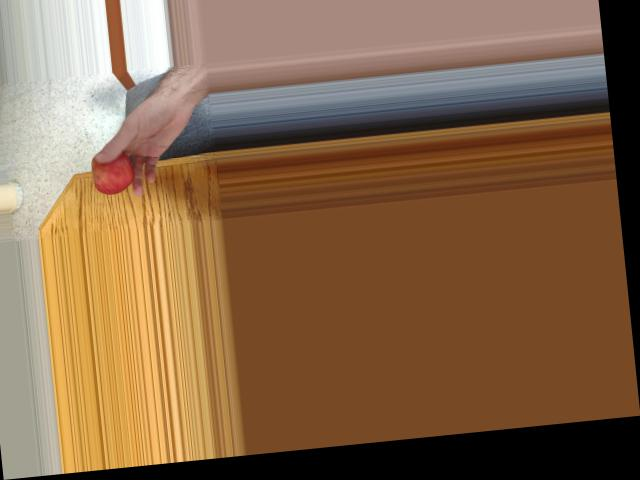apple: (89, 145, 137, 195)
